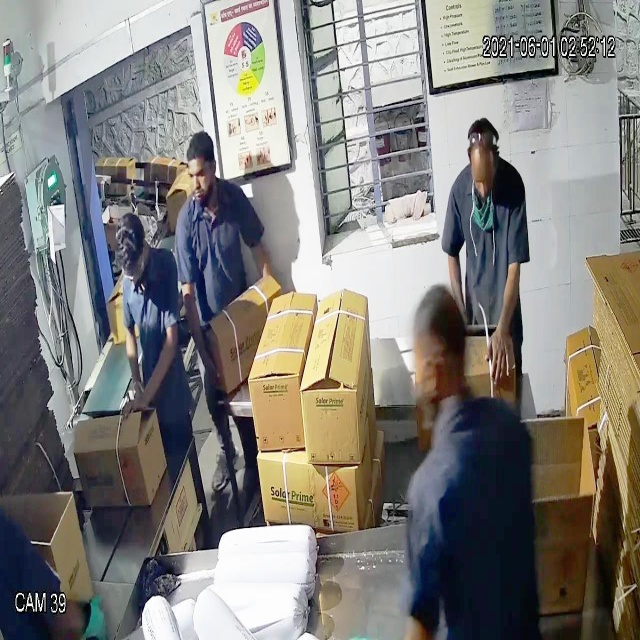Gafas: (116, 253, 147, 285)
